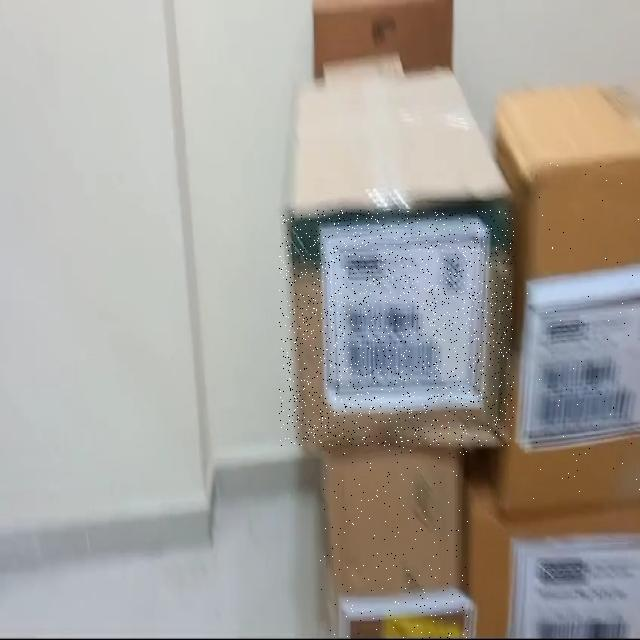BoxFace: (279, 210, 514, 447), (524, 162, 640, 507), (321, 446, 468, 640)
